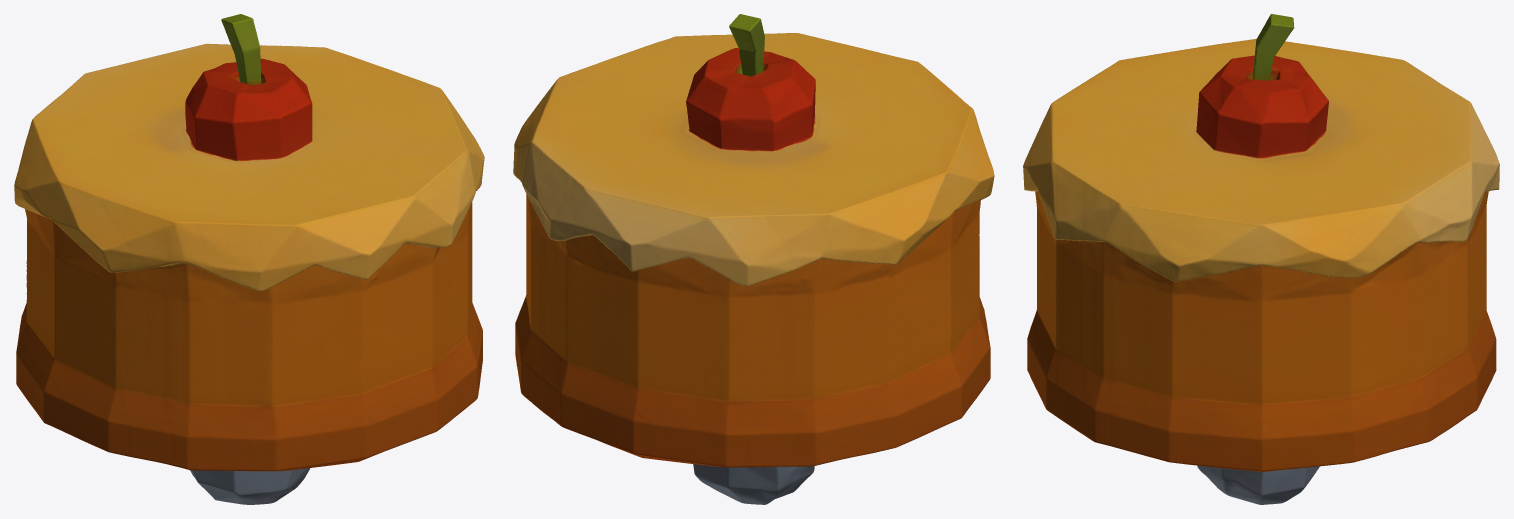
File: cake horneado 3d model.glb
The picture shows the model from 3 angles, left to right: view 1: azimuth 30°, elevation 25°; view 2: azimuth 150°, elevation 25°; view 3: azimuth 270°, elevation 25°; orthographic projection.
Parts seen in each view (by area): view 1: tripo_node_0f34ce3a-a215-4cb3-acbf-570a4e6ea414; view 2: tripo_node_0f34ce3a-a215-4cb3-acbf-570a4e6ea414; view 3: tripo_node_0f34ce3a-a215-4cb3-acbf-570a4e6ea414.
Part boxes in pixels (left/top/right/bottom): tripo_node_0f34ce3a-a215-4cb3-acbf-570a4e6ea414: left=14, top=14, right=484, bottom=504; tripo_node_0f34ce3a-a215-4cb3-acbf-570a4e6ea414: left=513, top=14, right=994, bottom=504; tripo_node_0f34ce3a-a215-4cb3-acbf-570a4e6ea414: left=1023, top=14, right=1499, bottom=504.
Bounding box in the file's own units: 0.9041 × 1 × 0.904.
1 material, 1 textured.
